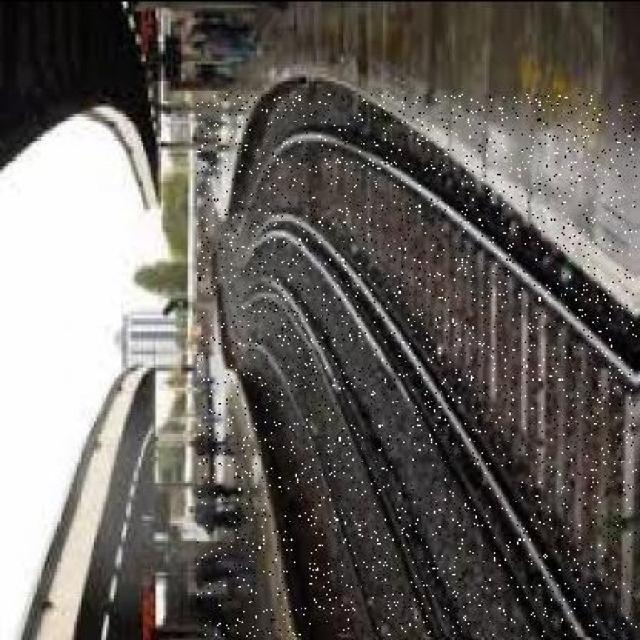rail: (199, 93, 638, 636)
